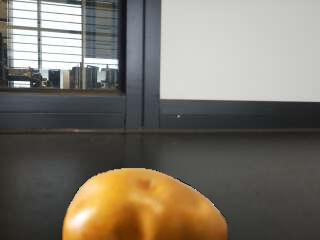Potato: (59, 167, 231, 239)
